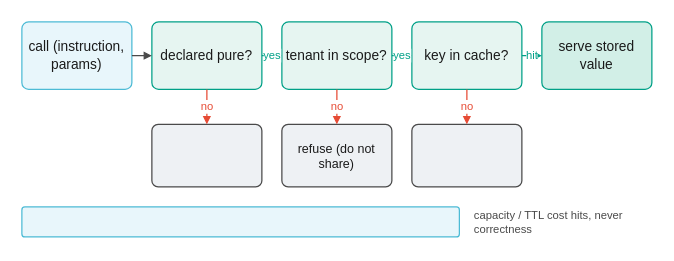
Some shapes in this 674 by 261 pixel diagram are drawn without their labels. The shapes that lost their labels are listed below. From the top down, each one's centre as x and y in pixels, then its label:
(x=206, y=155): never stored: execute every time
(x=466, y=155): execute, store with footprint
(x=240, y=221): any write overlapping a stored footprint evicts that entry
